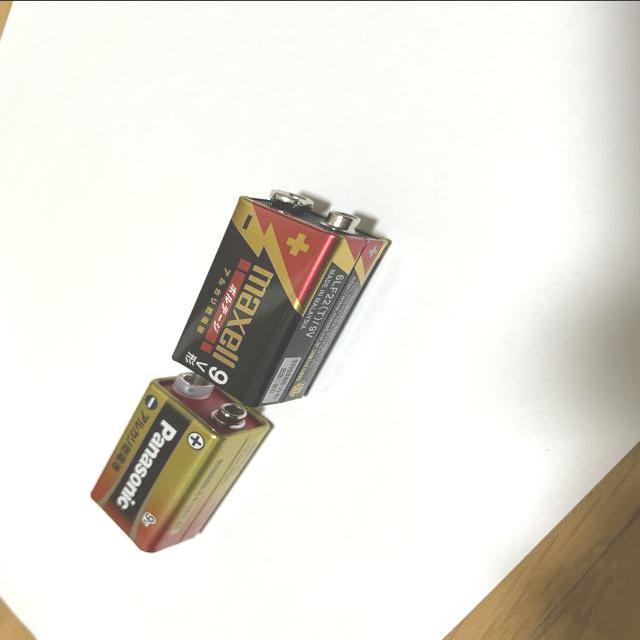9V: (173, 187, 393, 407), (90, 370, 274, 554)
